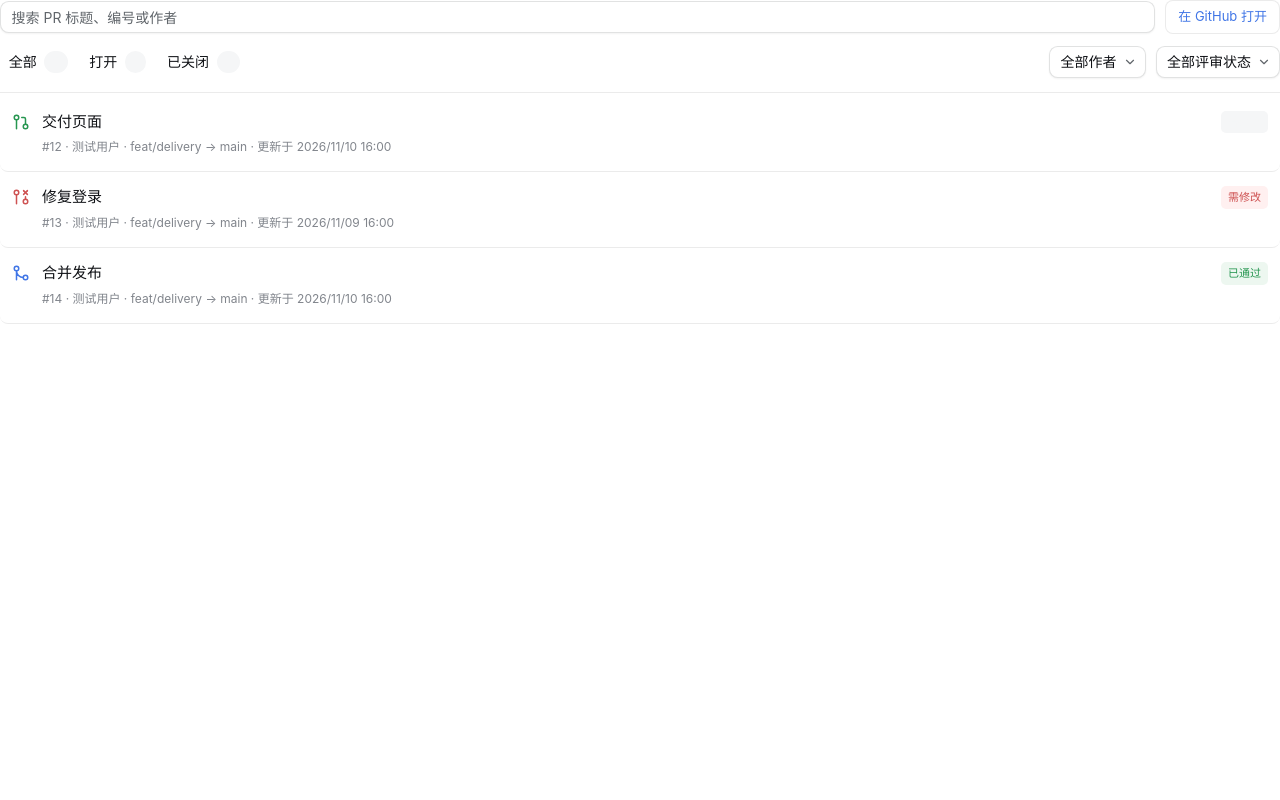
Test: prs-page › 支持搜索、作者与评审状态筛选，并打开详情差异
The image size is (1280, 800).
Expected: the button "交付页面" is shown, [42, 110, 102, 133]
Type "不存在" into the field labelled "搜索 PR" at (578, 17), box [0, 1, 1155, 33]
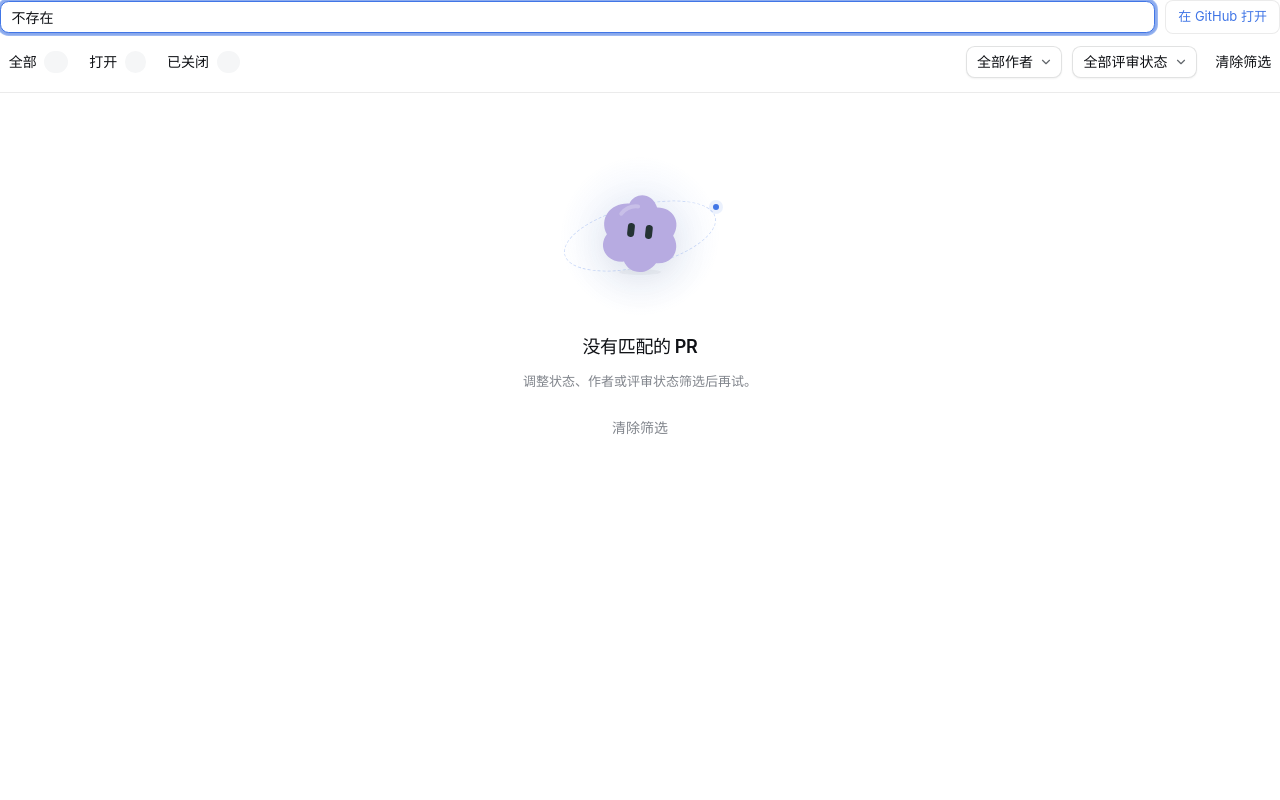
Expected: the heading "没有匹配的 PR" is shown, [582, 332, 698, 360]
Click the 1st button "清除筛选" at (1243, 62), box [1206, 50, 1279, 74]
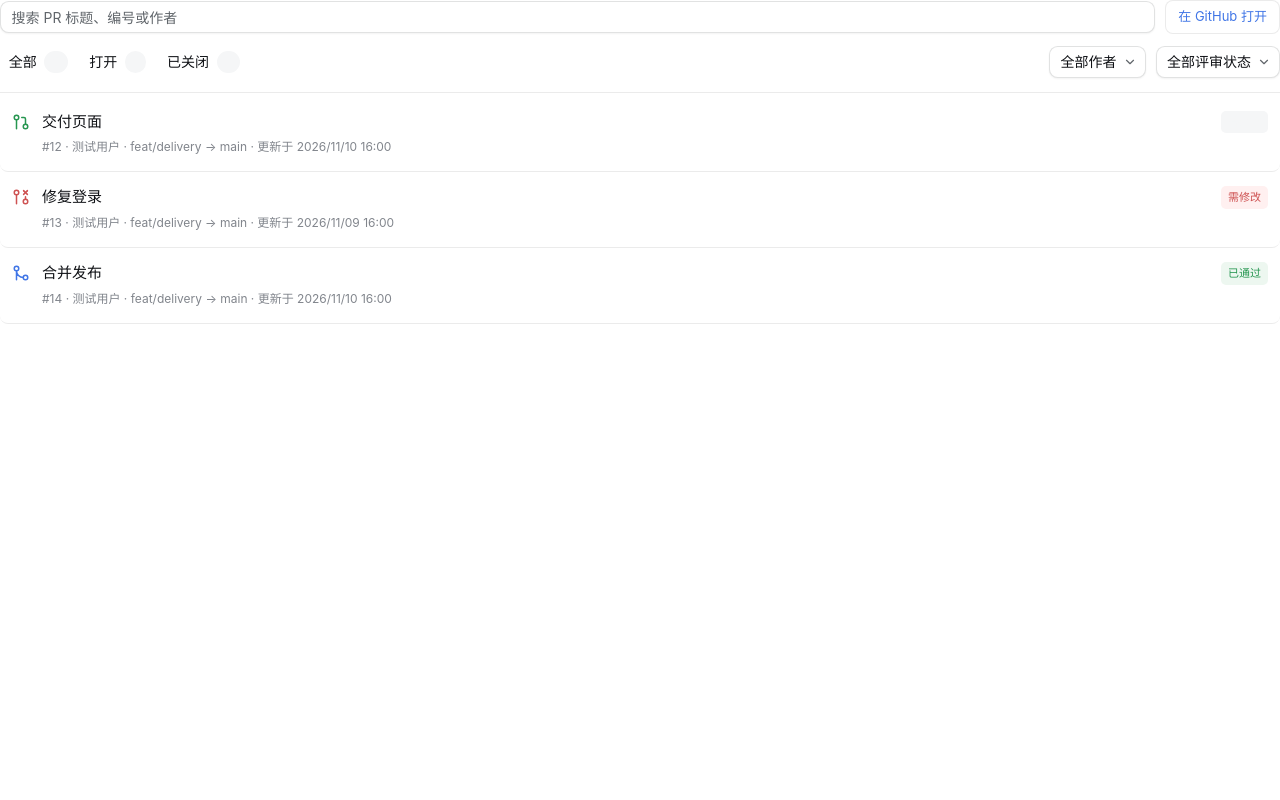
Click the button "交付页面" at (72, 122), box [42, 110, 102, 133]
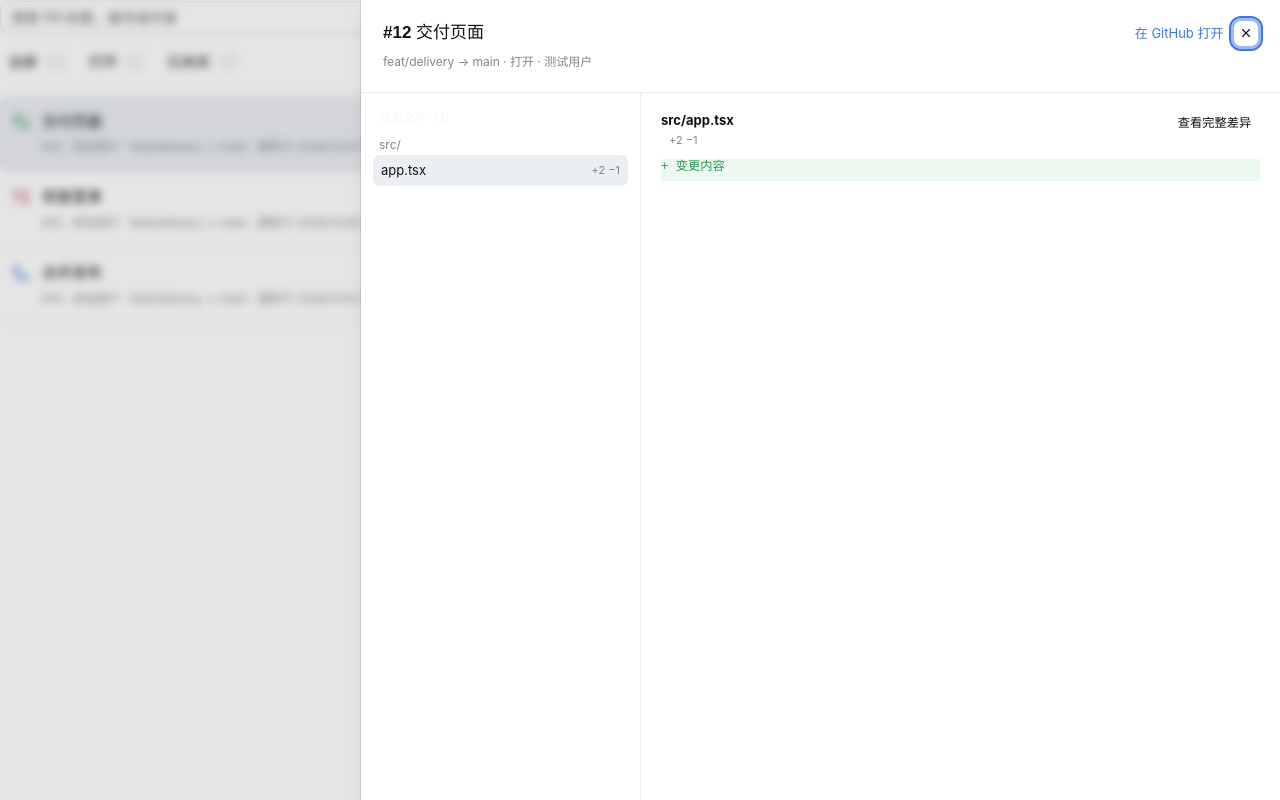
Expected: the dialog is shown
Expected: the heading "#12 交付页面" is shown, [383, 23, 484, 42]
Expected: the element named "PR 差异" is shown, [661, 159, 1260, 181]
Click the button "查看完整差异" at (1214, 123), box [1169, 111, 1260, 135]
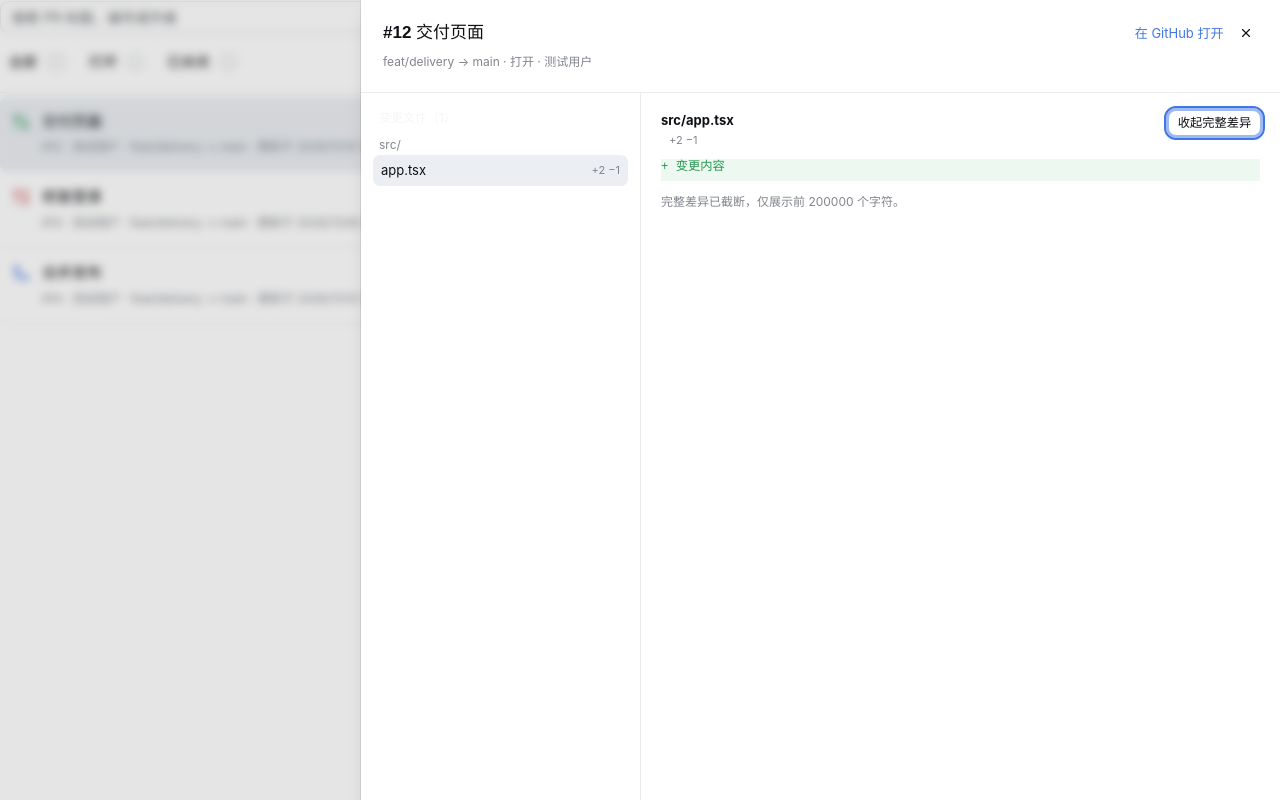
Expected: the text "完整差异已截断，仅展示前 200000 个字符。" is shown, [661, 194, 905, 209]
